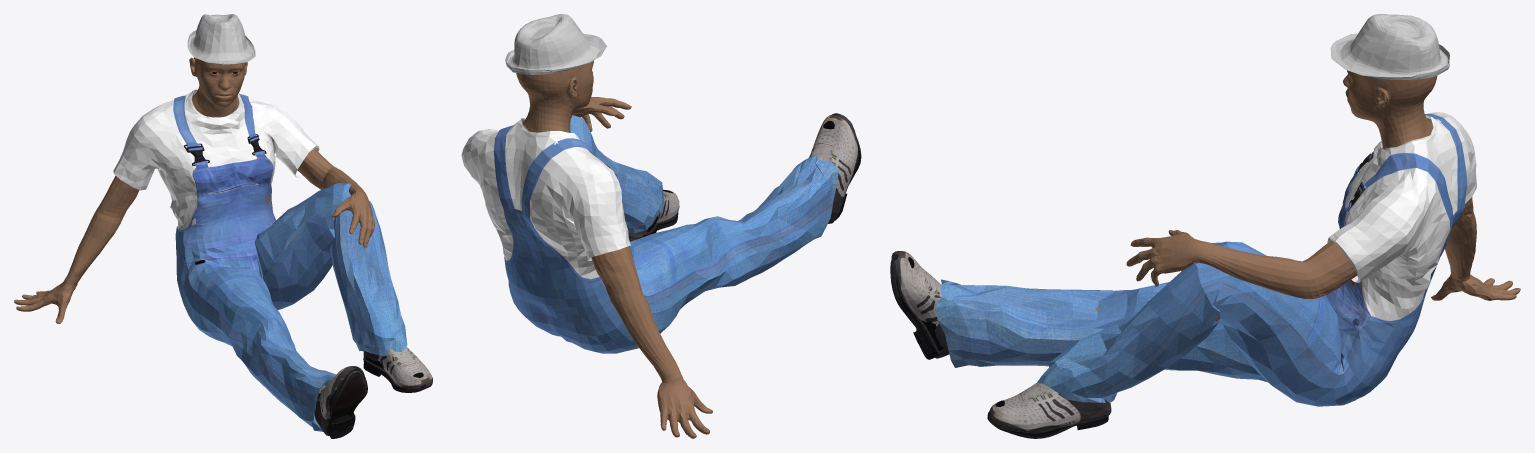
File: human_sit.obj
3 renders of one model, left to right at view 1: azimuth 30°, elevation 25°; view 2: azimuth 150°, elevation 25°; view 3: azimuth 270°, elevation 25°, orthographic. The views are drawn at different scales.
Parts seen in each view (by area): view 1: male_worksuit01.obj, base.obj, fedora.obj, shoes05.obj, shoes03.obj; view 2: male_worksuit01.obj, base.obj, fedora.obj, shoes05.obj, shoes03.obj; view 3: male_worksuit01.obj, base.obj, shoes05.obj, fedora.obj, shoes03.obj.
Part boxes in pixels (left/top/right/bottom): male_worksuit01.obj: left=113, top=89, right=407, bottom=431; base.obj: left=14, top=57, right=374, bottom=349; fedora.obj: left=187, top=14, right=255, bottom=64; shoes05.obj: left=314, top=347, right=432, bottom=435; shoes03.obj: left=316, top=355, right=430, bottom=438; male_worksuit01.obj: left=461, top=115, right=838, bottom=353; base.obj: left=516, top=60, right=712, bottom=438; fedora.obj: left=505, top=14, right=607, bottom=74; shoes05.obj: left=628, top=114, right=858, bottom=240; shoes03.obj: left=629, top=113, right=861, bottom=241; male_worksuit01.obj: left=936, top=112, right=1476, bottom=406; base.obj: left=1095, top=70, right=1520, bottom=321; shoes05.obj: left=893, top=251, right=1111, bottom=432; fedora.obj: left=1330, top=14, right=1450, bottom=79; shoes03.obj: left=890, top=253, right=1108, bottom=438.
Size of the model in its own units: 8.18 by 8.84 by 13.04.
